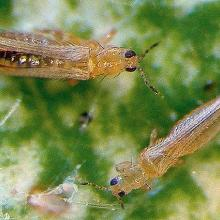Thrips: (3, 23, 156, 107), (127, 113, 220, 216)
